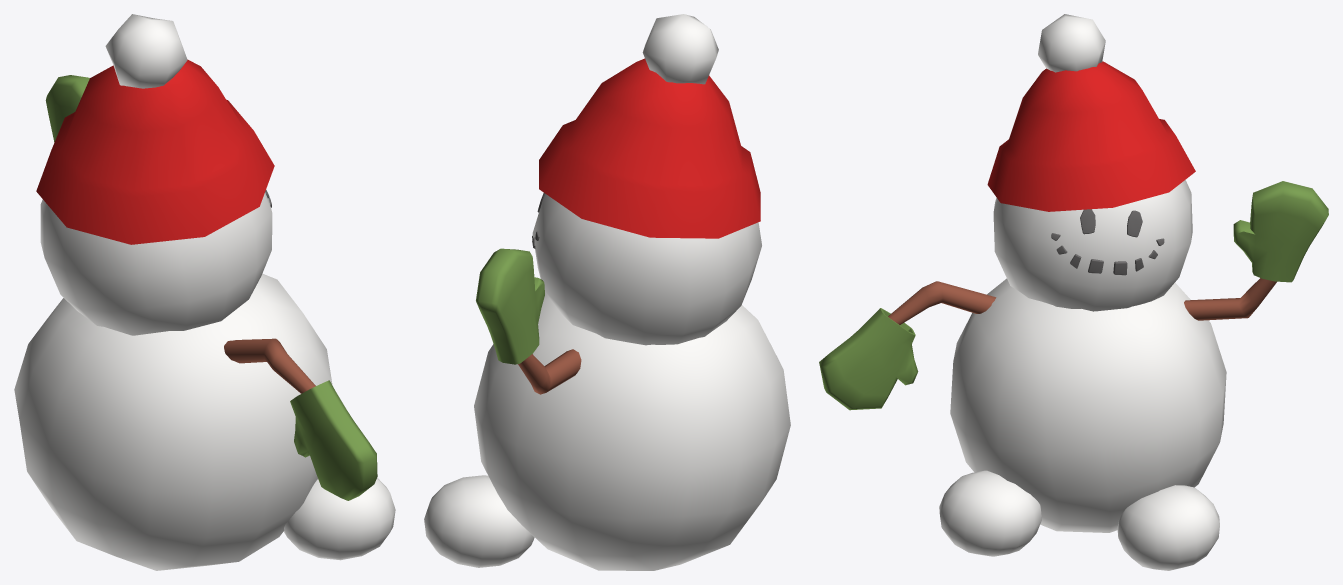
Rendered from Christmas_Snowman_4_231109.glb.
The picture shows the model from 3 angles, left to right: view 1: azimuth 30°, elevation 25°; view 2: azimuth 150°, elevation 25°; view 3: azimuth 270°, elevation 25°; orthographic projection. The views are drawn at different scales.
Visible parts, largest first — view 1: Snowman_4; view 2: Snowman_4; view 3: Snowman_4.
Part boxes in pixels (x1=…): Snowman_4: x1=14, y1=14, x2=395, y2=570; Snowman_4: x1=424, y1=14, x2=790, y2=570; Snowman_4: x1=819, y1=14, x2=1328, y2=570.
Size of the model in its own units: 0.6737 by 1.2 by 1.14.
Materials: 1 (1 with a texture image).
